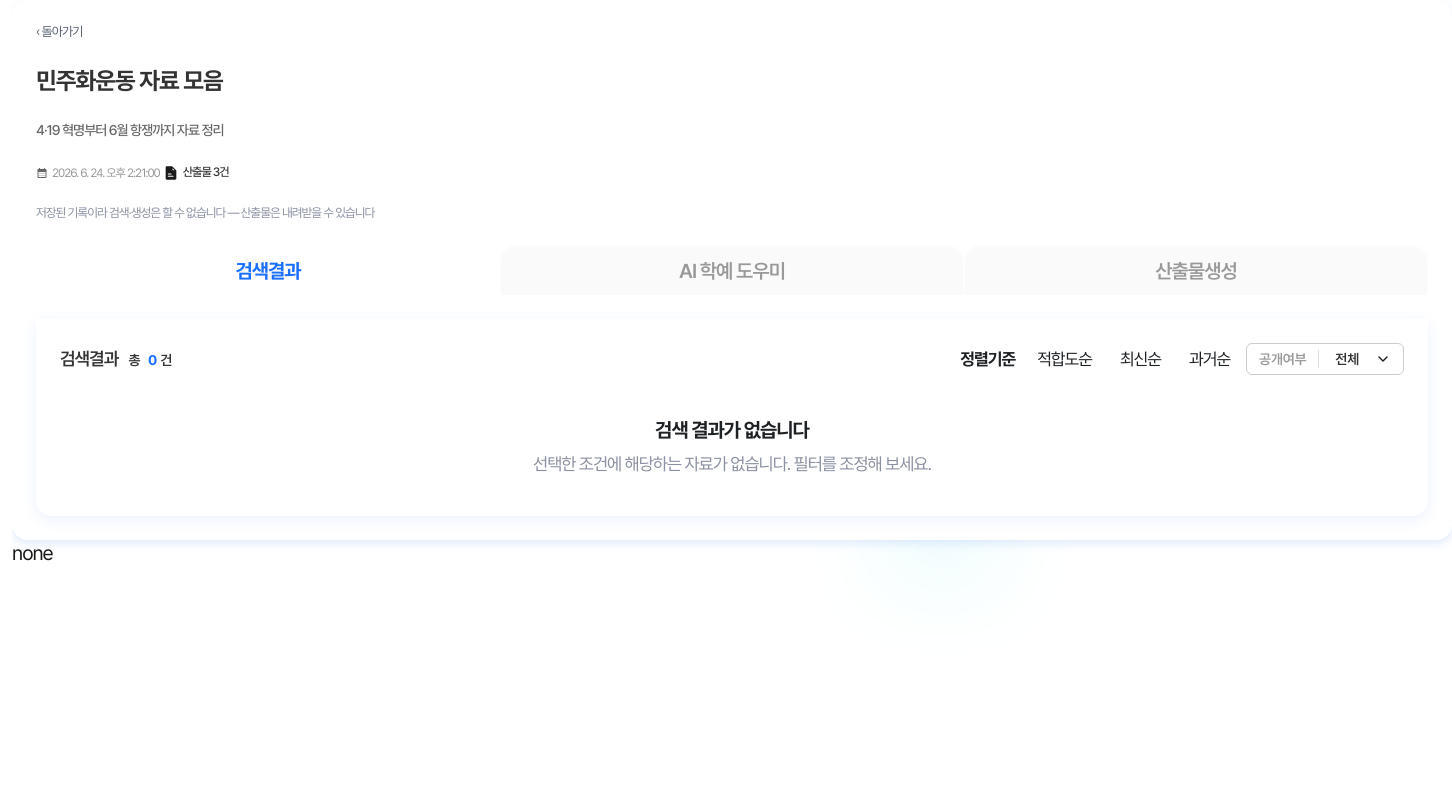
Test: 대화 복원이 실패하면 저장된 질의로 검색을 되살리고 대화 탭에 한 줄로 알린다
The width and height of the screenshot is (1452, 810).
Expected: the text "민주화운동 자료 모음" is shown, x1=36 y1=65 x2=223 y2=96
Click the button "AI 학예 도우미".
click(732, 270)  # box x1=500 y1=245 x2=964 y2=295
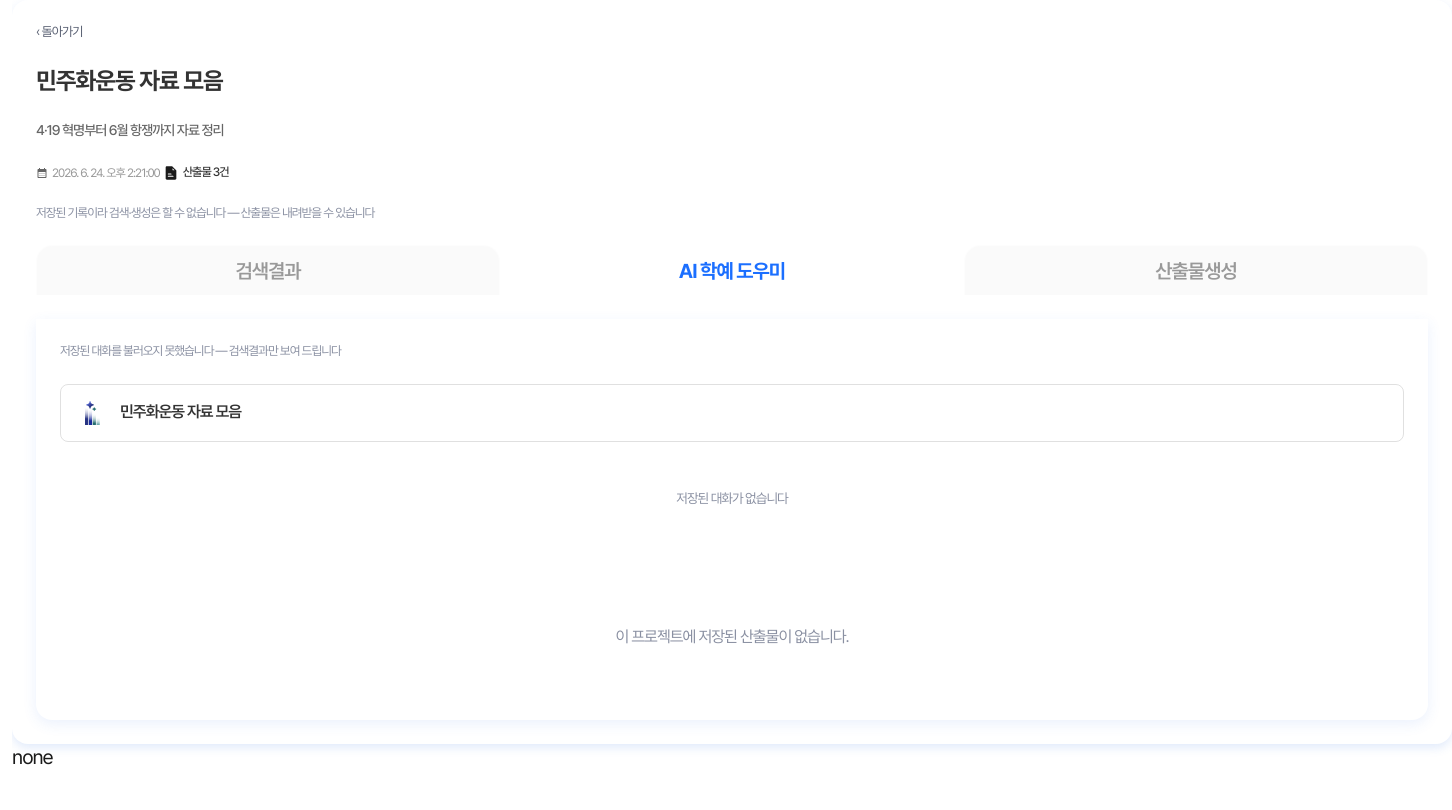
Now the text "저장된 대화를 불러오지 못했습니다 — 검색결과만 보여 드립니다" is shown, box x1=60 y1=343 x2=341 y2=358
